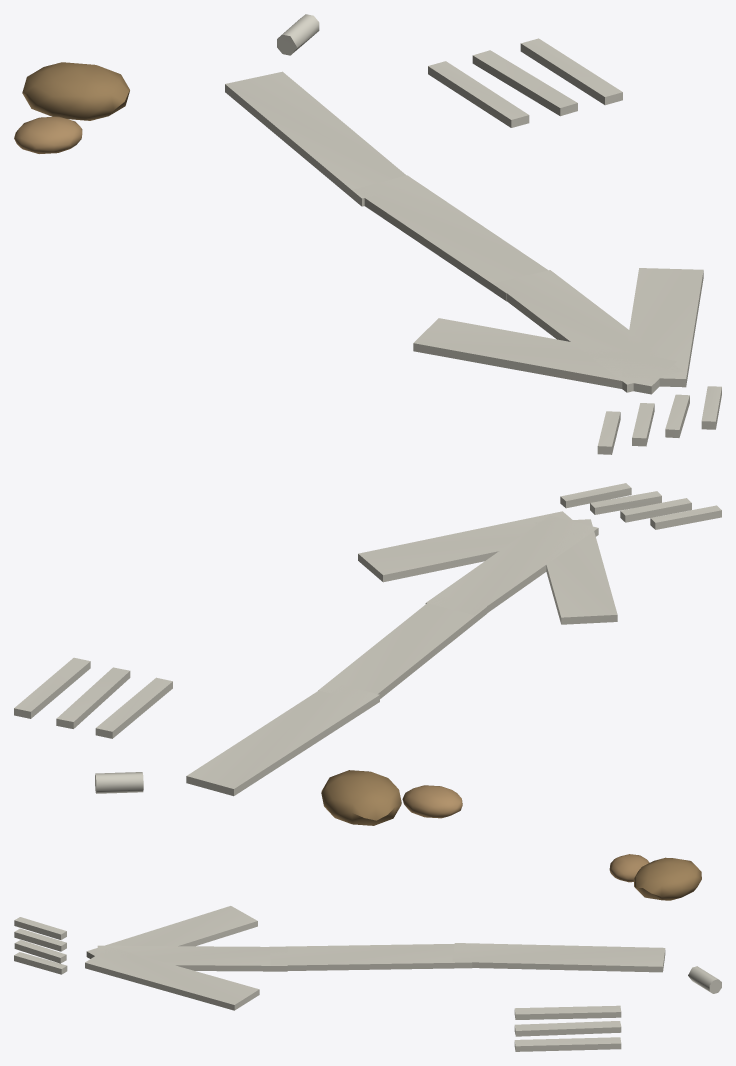
Rendered from chalk_turn_a_lod1.glb.
3 renders of one model, top to bottom at view 1: azimuth 30°, elevation 25°; view 2: azimuth 150°, elevation 25°; view 3: azimuth 270°, elevation 25°, orthographic. The views are drawn at different scales.
Visible parts, largest first — view 1: Surface.001; view 2: Surface.001; view 3: Surface.001.
Boxes of the visible parts, x1=… form: Surface.001: x1=14, y1=14, x2=721, y2=454; Surface.001: x1=14, y1=483, x2=721, y2=825; Surface.001: x1=14, y1=854, x2=721, y2=1051.
Size of the model in its own units: 3.36 by 0.3596 by 5.67.
